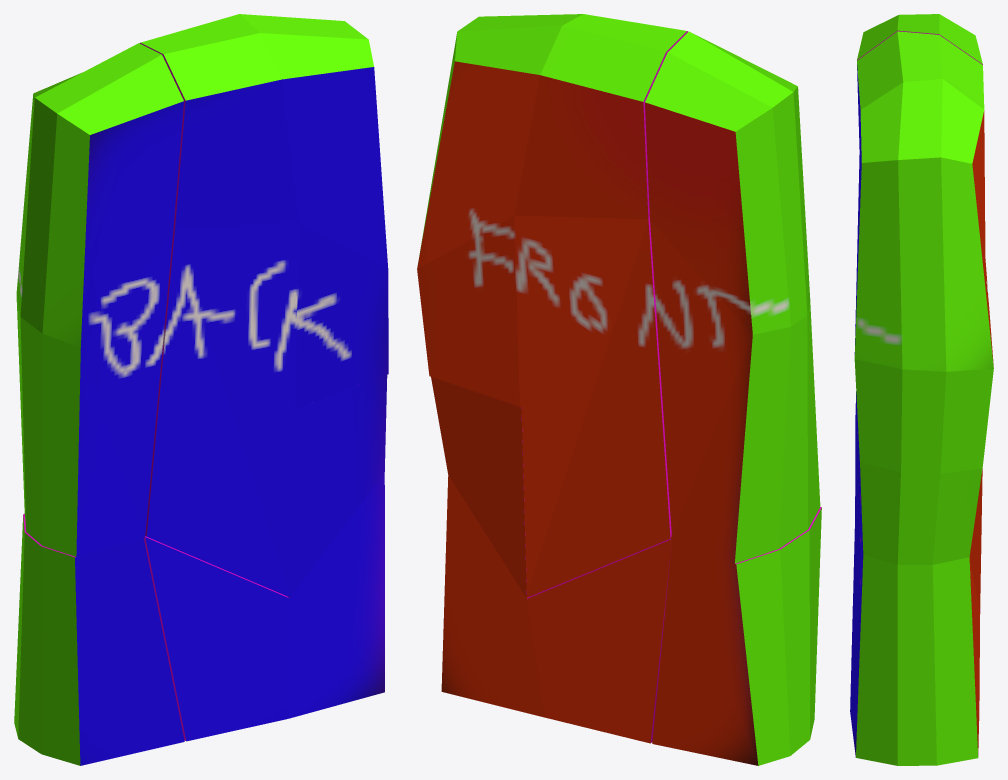
File: Statue 1.fbx
The picture shows the model from 3 angles, left to right: view 1: azimuth 30°, elevation 25°; view 2: azimuth 150°, elevation 25°; view 3: azimuth 270°, elevation 25°; orthographic projection. The views are drawn at different scales.
Visible parts, largest first — view 1: Cube; view 2: Cube; view 3: Cube.
Part boxes in pixels (x1=…): Cube: x1=14, y1=14, x2=388, y2=765; Cube: x1=417, y1=14, x2=821, y2=765; Cube: x1=850, y1=14, x2=993, y2=765.
Size of the model in its own units: 229 by 414 by 85.12.
